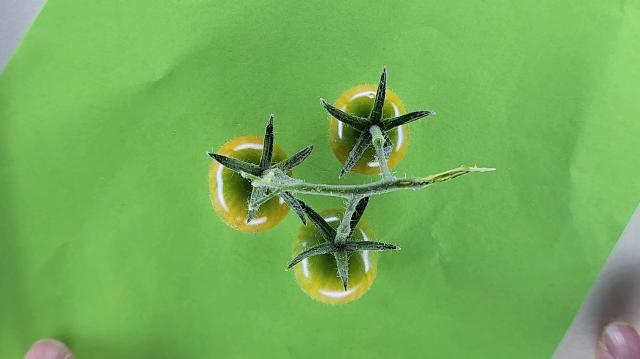Fruit Maturation: (288, 208, 383, 306), (207, 136, 294, 232), (329, 85, 410, 175)
